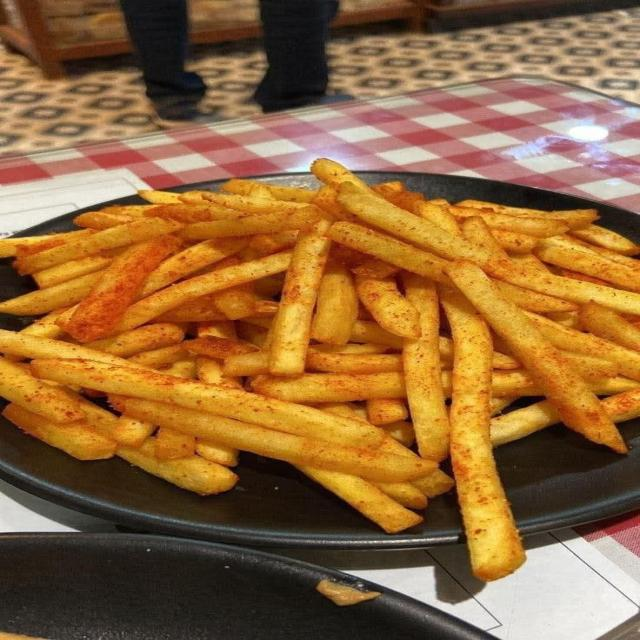potato fries: (0, 159, 639, 580), (447, 262, 626, 452), (440, 288, 525, 580)
